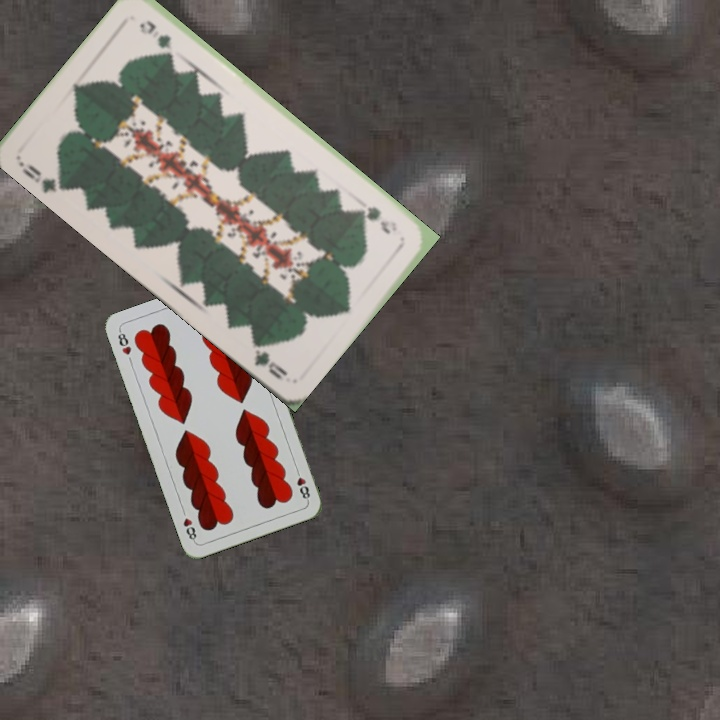G9: (14, 157, 69, 195), (354, 202, 400, 237)
H8: (291, 464, 313, 503), (114, 327, 135, 357)
